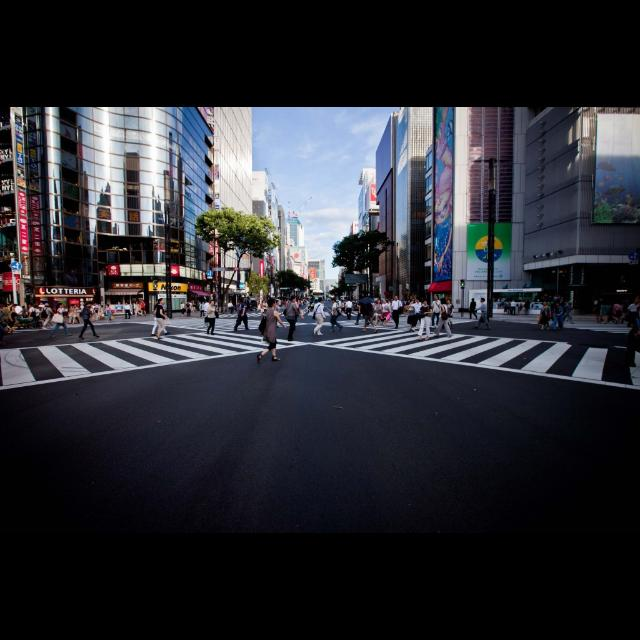head: (516, 298, 524, 318), (268, 298, 278, 310), (290, 296, 298, 304), (441, 298, 447, 306), (59, 303, 65, 309), (159, 299, 165, 305), (210, 301, 216, 307), (240, 297, 246, 303), (318, 298, 324, 304), (331, 298, 337, 304), (358, 295, 364, 301), (415, 298, 421, 304), (480, 298, 486, 304), (630, 300, 636, 306), (88, 302, 92, 308), (206, 300, 212, 304), (275, 300, 279, 306), (395, 296, 399, 302), (424, 300, 428, 306), (23, 306, 27, 310), (29, 304, 33, 308), (34, 305, 38, 309), (46, 304, 50, 308), (106, 304, 110, 308), (159, 300, 163, 304), (286, 298, 290, 302), (348, 298, 352, 302), (366, 300, 370, 304), (378, 300, 382, 304), (384, 300, 388, 304), (412, 302, 416, 306), (435, 296, 439, 300), (448, 300, 452, 304), (472, 298, 476, 302), (544, 303, 548, 307), (557, 303, 561, 307), (567, 302, 571, 306), (125, 302, 128, 306), (14, 303, 16, 307), (74, 306, 78, 308), (230, 300, 232, 304), (512, 300, 516, 302), (95, 304, 97, 306), (137, 302, 139, 304), (142, 301, 144, 303), (163, 304, 165, 306), (183, 302, 185, 304), (187, 303, 189, 305), (201, 303, 203, 305), (527, 300, 529, 302)
person: (256, 296, 288, 366), (284, 294, 306, 342), (48, 301, 74, 339), (78, 301, 102, 341), (152, 298, 172, 342), (434, 296, 454, 340), (403, 297, 427, 333), (358, 292, 378, 334), (150, 299, 172, 337), (416, 299, 434, 343), (234, 297, 252, 333), (329, 296, 345, 334), (313, 296, 327, 338), (474, 298, 492, 330), (355, 292, 371, 326), (536, 300, 552, 332), (207, 300, 220, 336), (431, 294, 444, 330), (404, 300, 418, 332), (555, 300, 569, 332), (391, 296, 403, 330), (41, 303, 55, 331), (272, 299, 284, 329), (444, 299, 454, 333), (12, 303, 24, 331), (30, 305, 42, 331), (374, 298, 384, 328), (380, 298, 390, 328), (563, 301, 575, 325), (72, 304, 84, 326), (26, 304, 36, 330), (20, 306, 30, 330), (344, 298, 354, 322), (204, 300, 212, 328), (469, 298, 479, 320), (134, 301, 144, 319), (106, 304, 114, 324), (516, 298, 524, 318), (198, 302, 206, 321), (124, 302, 132, 320), (140, 300, 148, 318), (179, 301, 187, 319), (510, 300, 518, 318), (524, 298, 532, 316), (228, 300, 236, 316), (285, 296, 291, 316), (94, 303, 100, 319), (162, 302, 168, 318), (185, 302, 191, 318)
